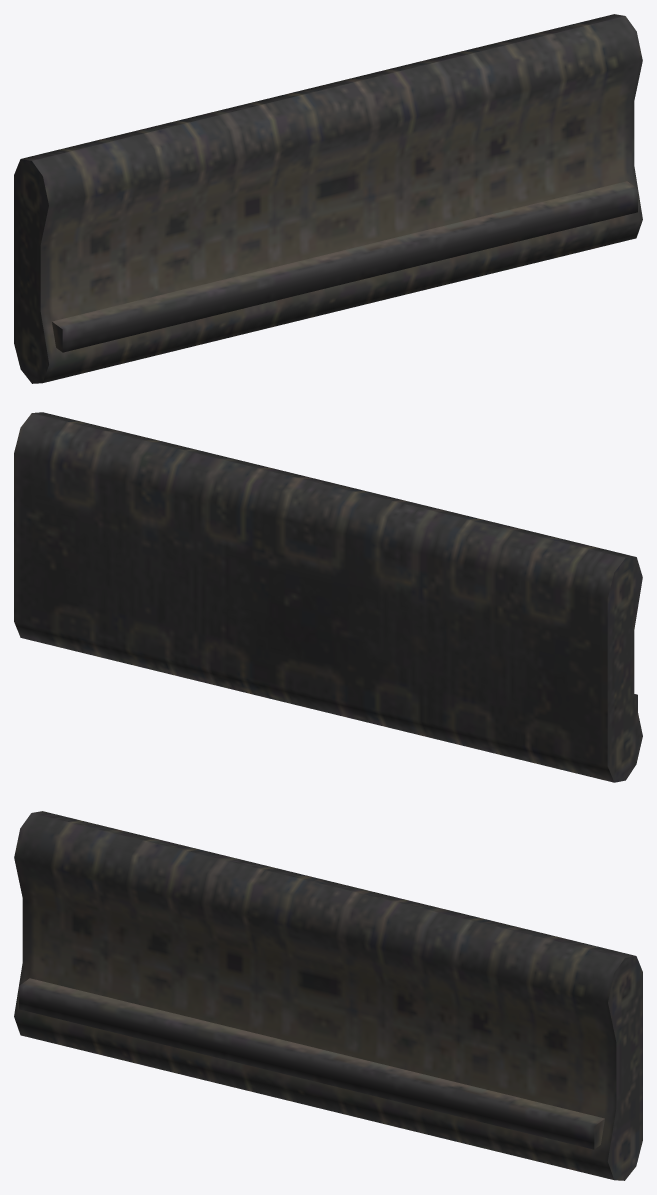
3 views of the same model, one above another, from view 1: azimuth 30°, elevation 25°; view 2: azimuth 150°, elevation 25°; view 3: azimuth 330°, elevation 25° (orthographic).
Visible parts, largest first — view 1: set_0_group_0; view 2: set_0_group_0; view 3: set_0_group_0.
Boxes of the visible parts, x1,y1,x2,y2 form: set_0_group_0: (14,14,642,383); set_0_group_0: (14,412,642,782); set_0_group_0: (14,811,642,1180).
Size of the model in its own units: 0.5721 by 0.2051 by 0.066.
1 material, 1 textured.
